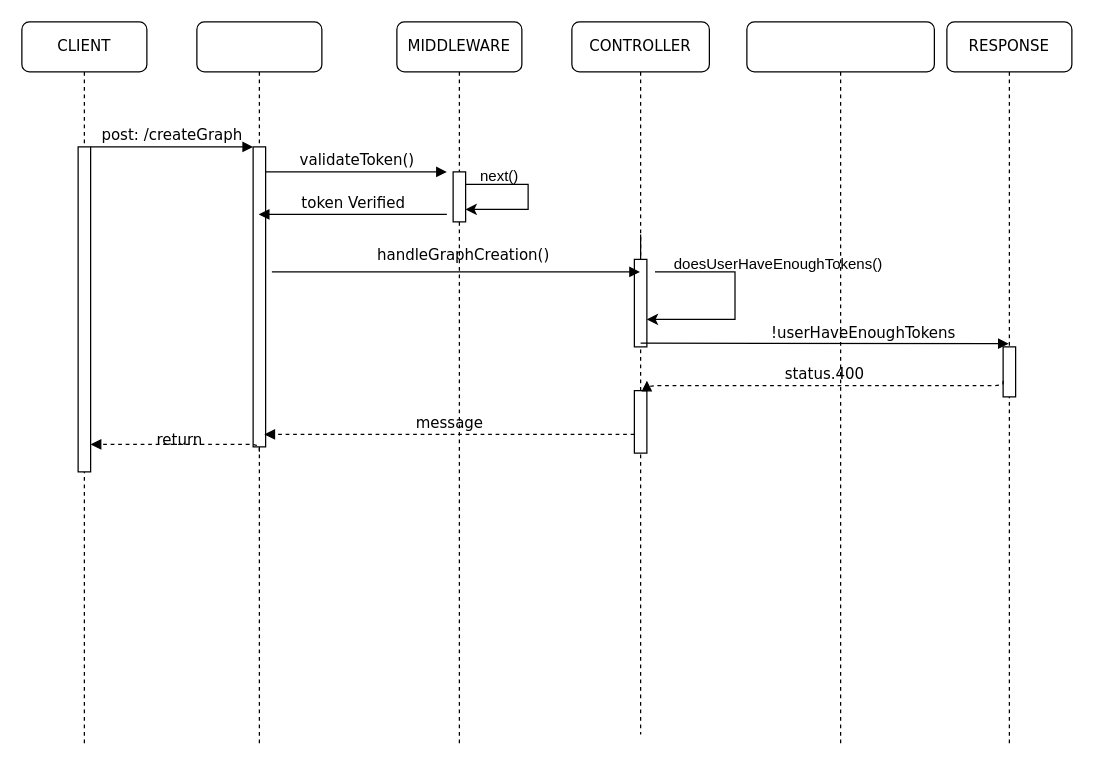
Some shapes in this 1094 by 769 pixel diagram are drawn without their labels. The shapes that lost their labels are listed below. From the top down, each one's box as (x1, y1, x2, y2) in pixels, then its label:
(196, 21, 322, 747): APP
(746, 21, 934, 747): DAO
